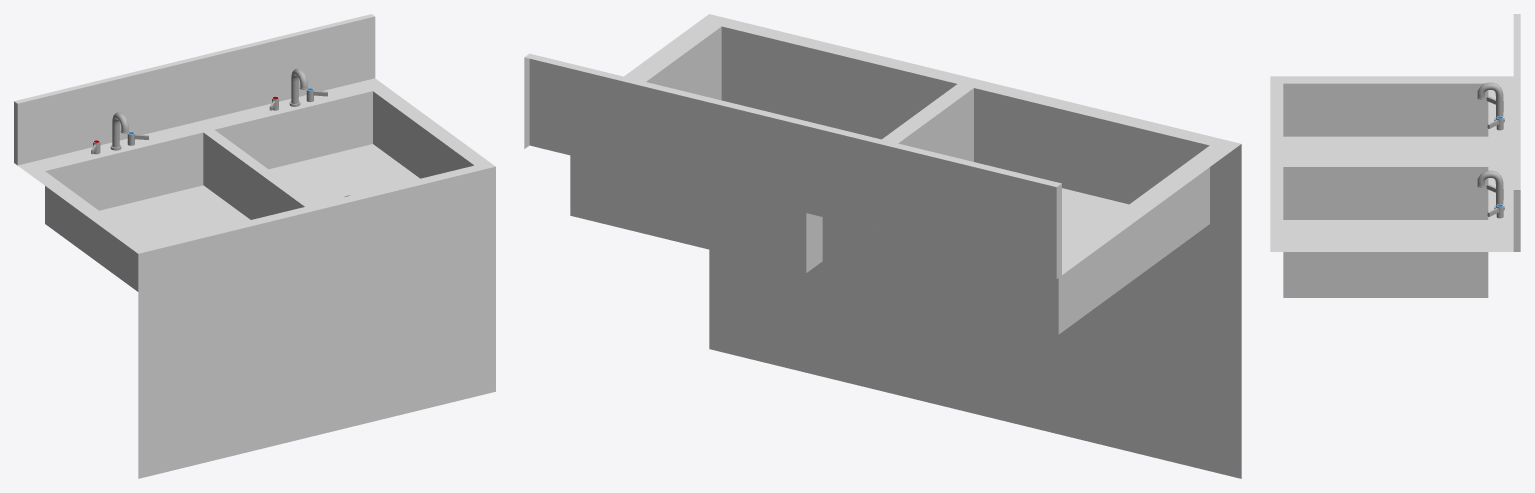
The model's file is Sink.FBX.
3 views of the same model, side by side, from view 1: azimuth 30°, elevation 25°; view 2: azimuth 150°, elevation 25°; view 3: azimuth 270°, elevation 25° (orthographic). The views are drawn at different scales.
Visible parts, largest first — view 1: Sink; view 2: Sink; view 3: Sink.
Boxes of the visible parts, box(x1,y1,x2,y2) form: Sink: box(14, 14, 495, 478); Sink: box(524, 14, 1241, 478); Sink: box(1270, 14, 1520, 297).
Bounding box in the file's own units: 152 × 116 × 91.18.
